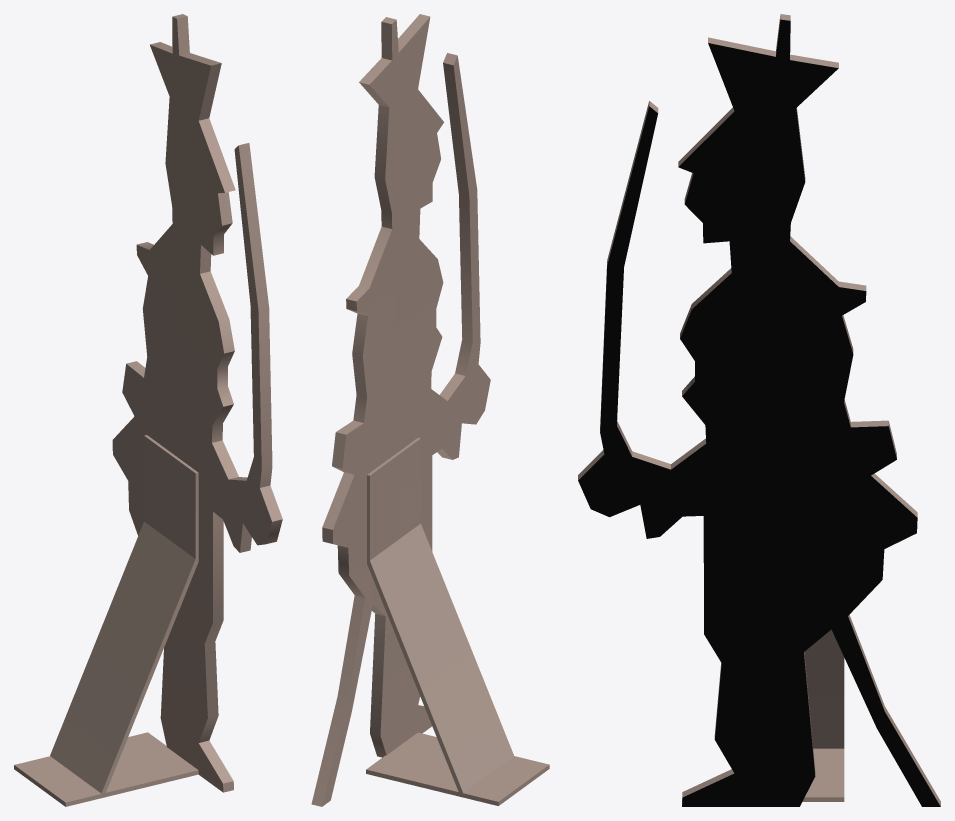
The model's file is Vakt 1.FBX.
The picture shows the model from 3 angles, left to right: view 1: azimuth 30°, elevation 25°; view 2: azimuth 150°, elevation 25°; view 3: azimuth 270°, elevation 25°; orthographic projection. The views are drawn at different scales.
Parts seen in each view (by area): view 1: Vakt; view 2: Vakt; view 3: Vakt.
Part boxes in pixels (bbox=[...]): Vakt: bbox=[14, 14, 282, 806]; Vakt: bbox=[311, 14, 549, 806]; Vakt: bbox=[578, 14, 940, 806].
Bounding box in the file's own units: 40.25 × 198 × 82.76.
